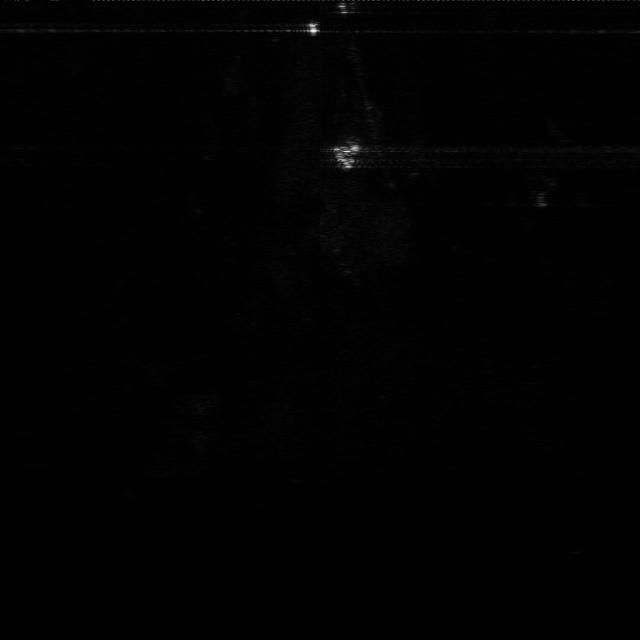rov: (327, 143, 364, 171)
